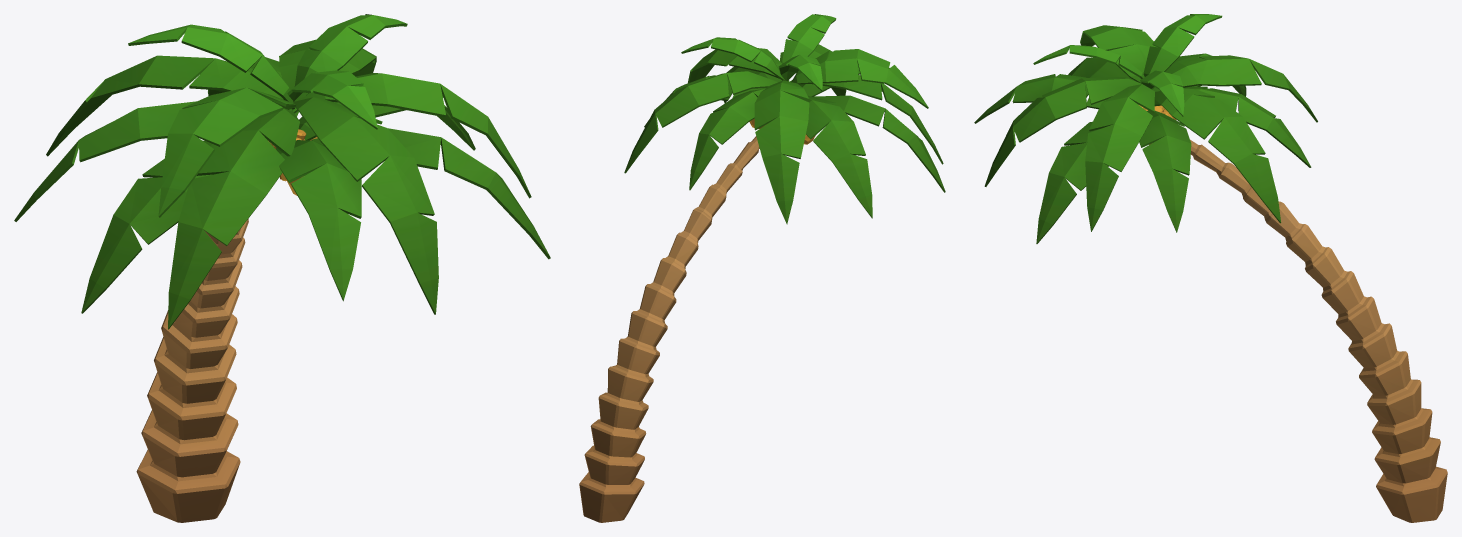
File: palm_lean.glb
The picture shows the model from 3 angles, left to right: view 1: azimuth 30°, elevation 25°; view 2: azimuth 150°, elevation 25°; view 3: azimuth 270°, elevation 25°; orthographic projection. The views are drawn at different scales.
Parts seen in each view (by area): view 1: Palm_7_AA; view 2: Palm_7_AA; view 3: Palm_7_AA.
Part boxes in pixels (bbox=[...]): Palm_7_AA: bbox=[14, 14, 550, 522]; Palm_7_AA: bbox=[579, 14, 945, 522]; Palm_7_AA: bbox=[974, 14, 1447, 522].
Bounding box in the file's own units: 3.3 × 4.6 × 4.46.
1 material, 1 textured.
